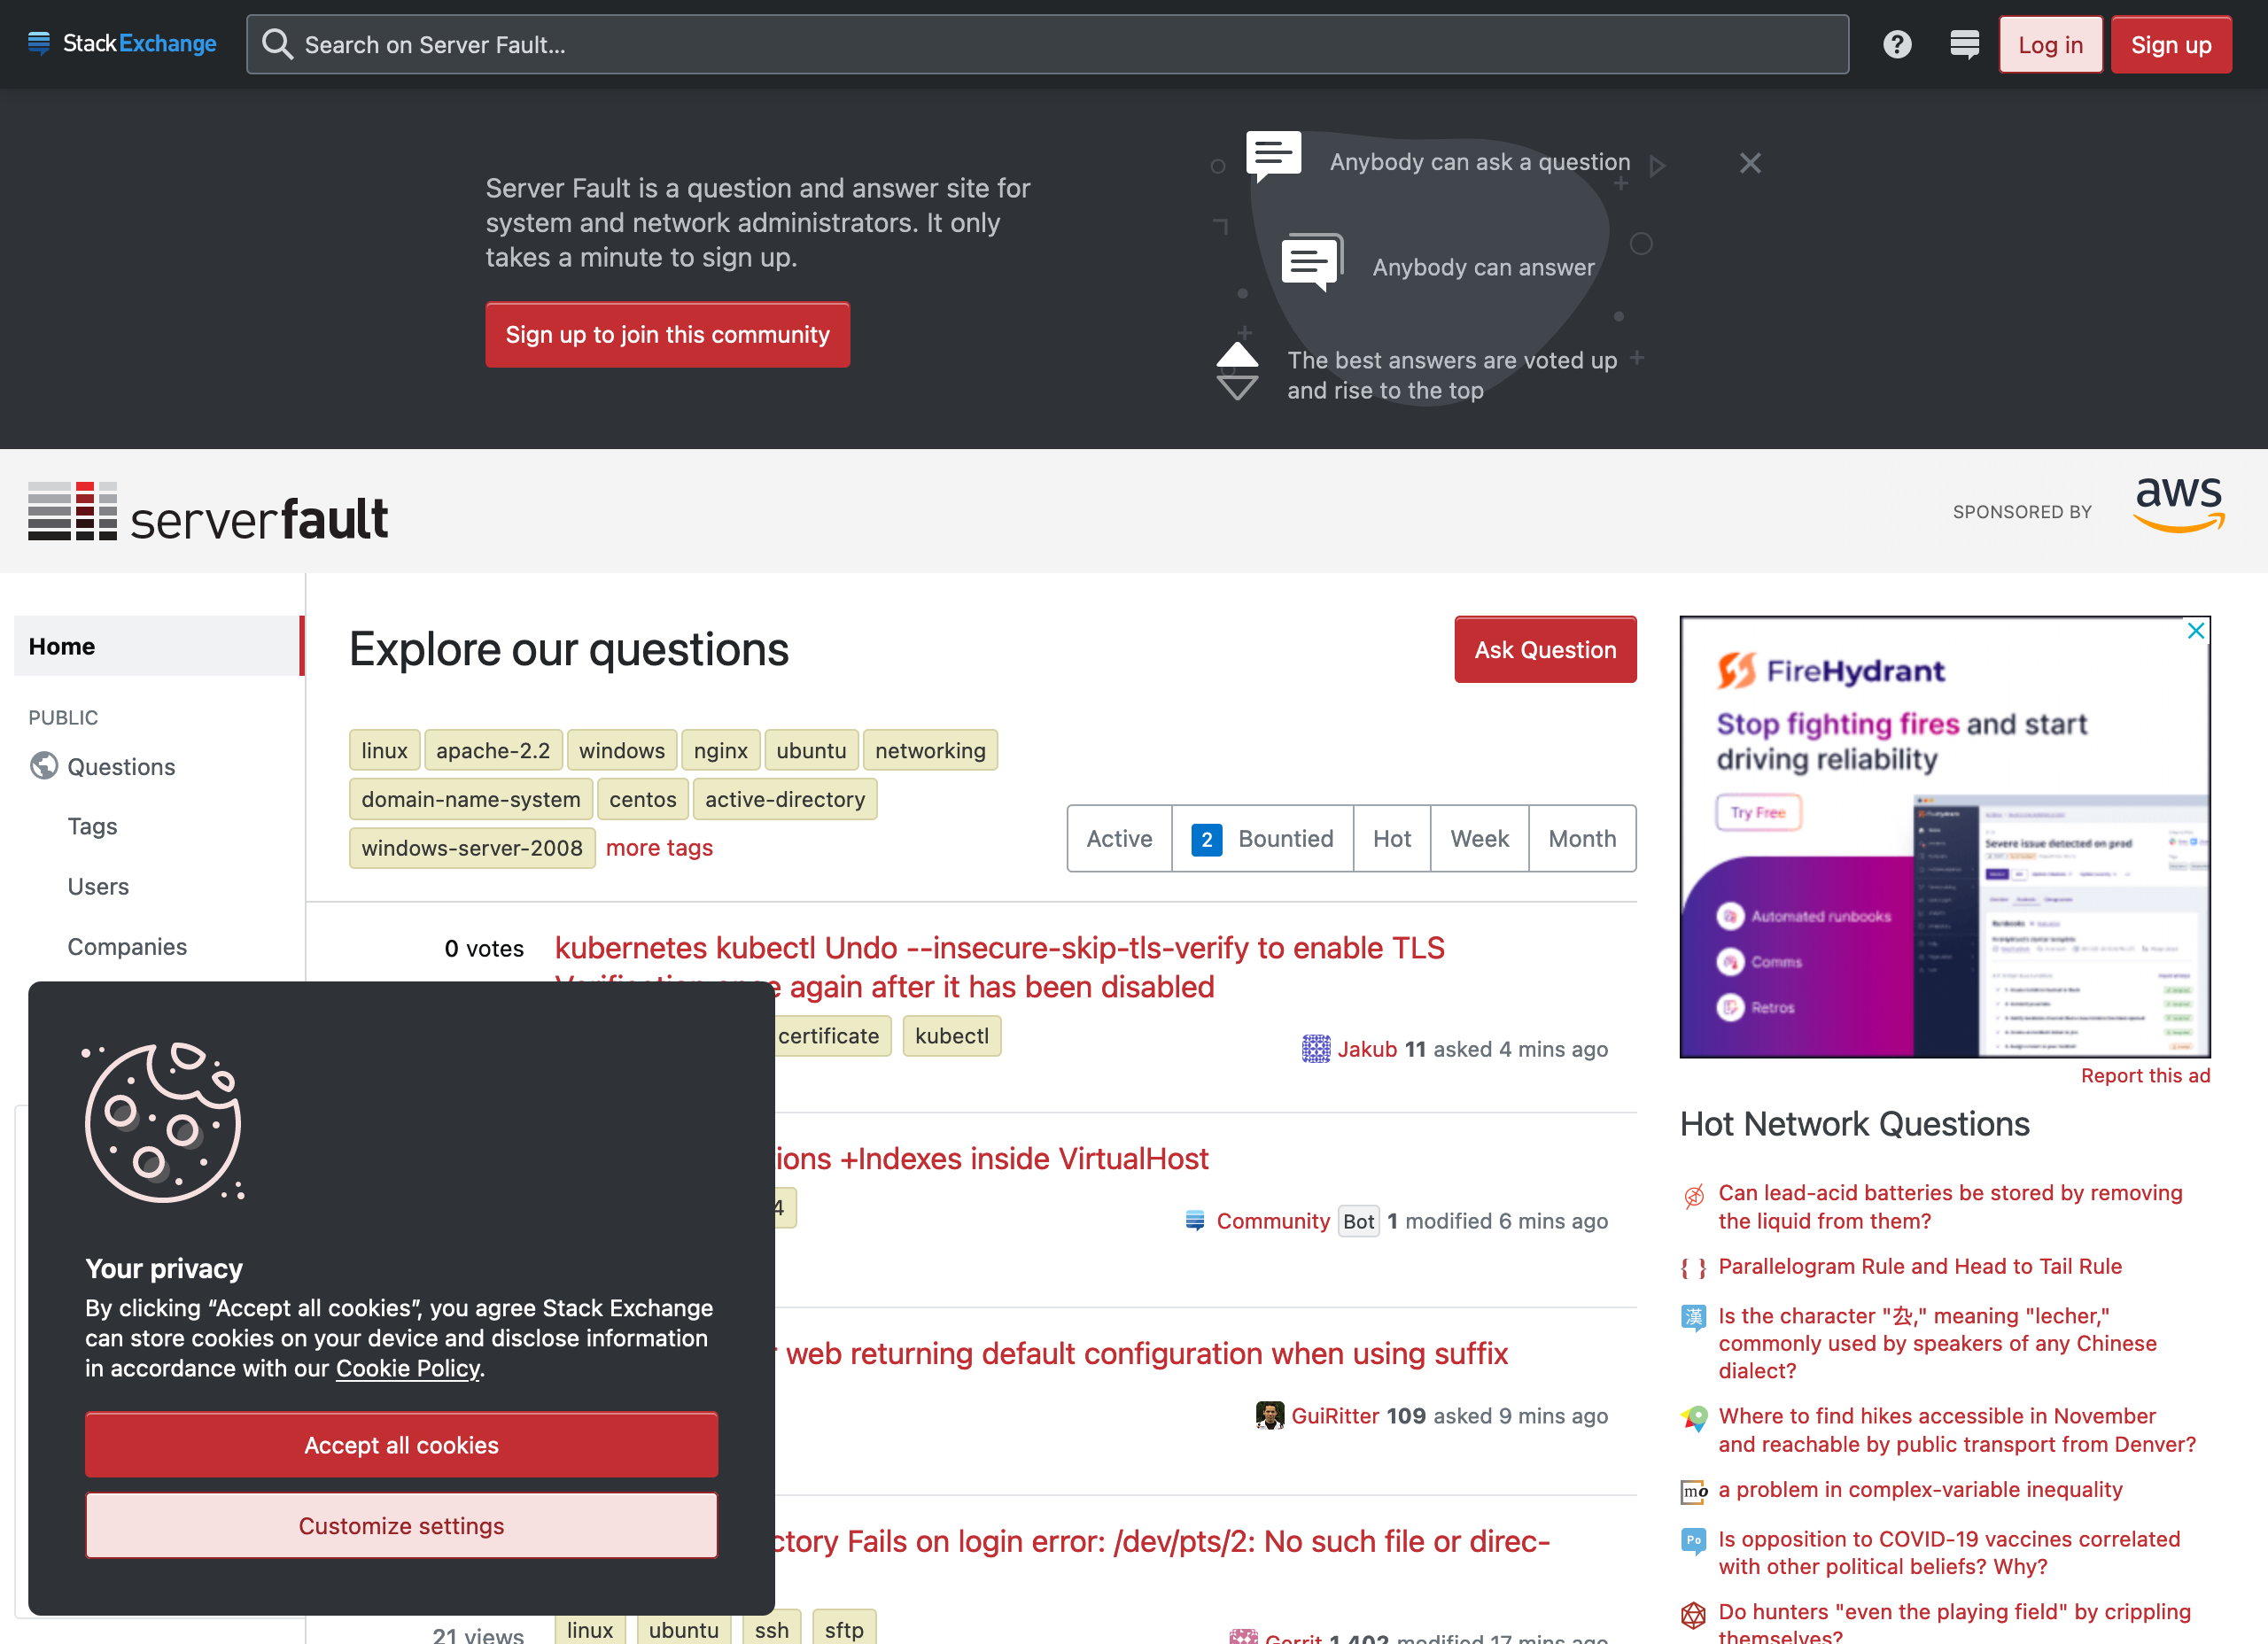Login: (1997, 12, 2106, 79)
